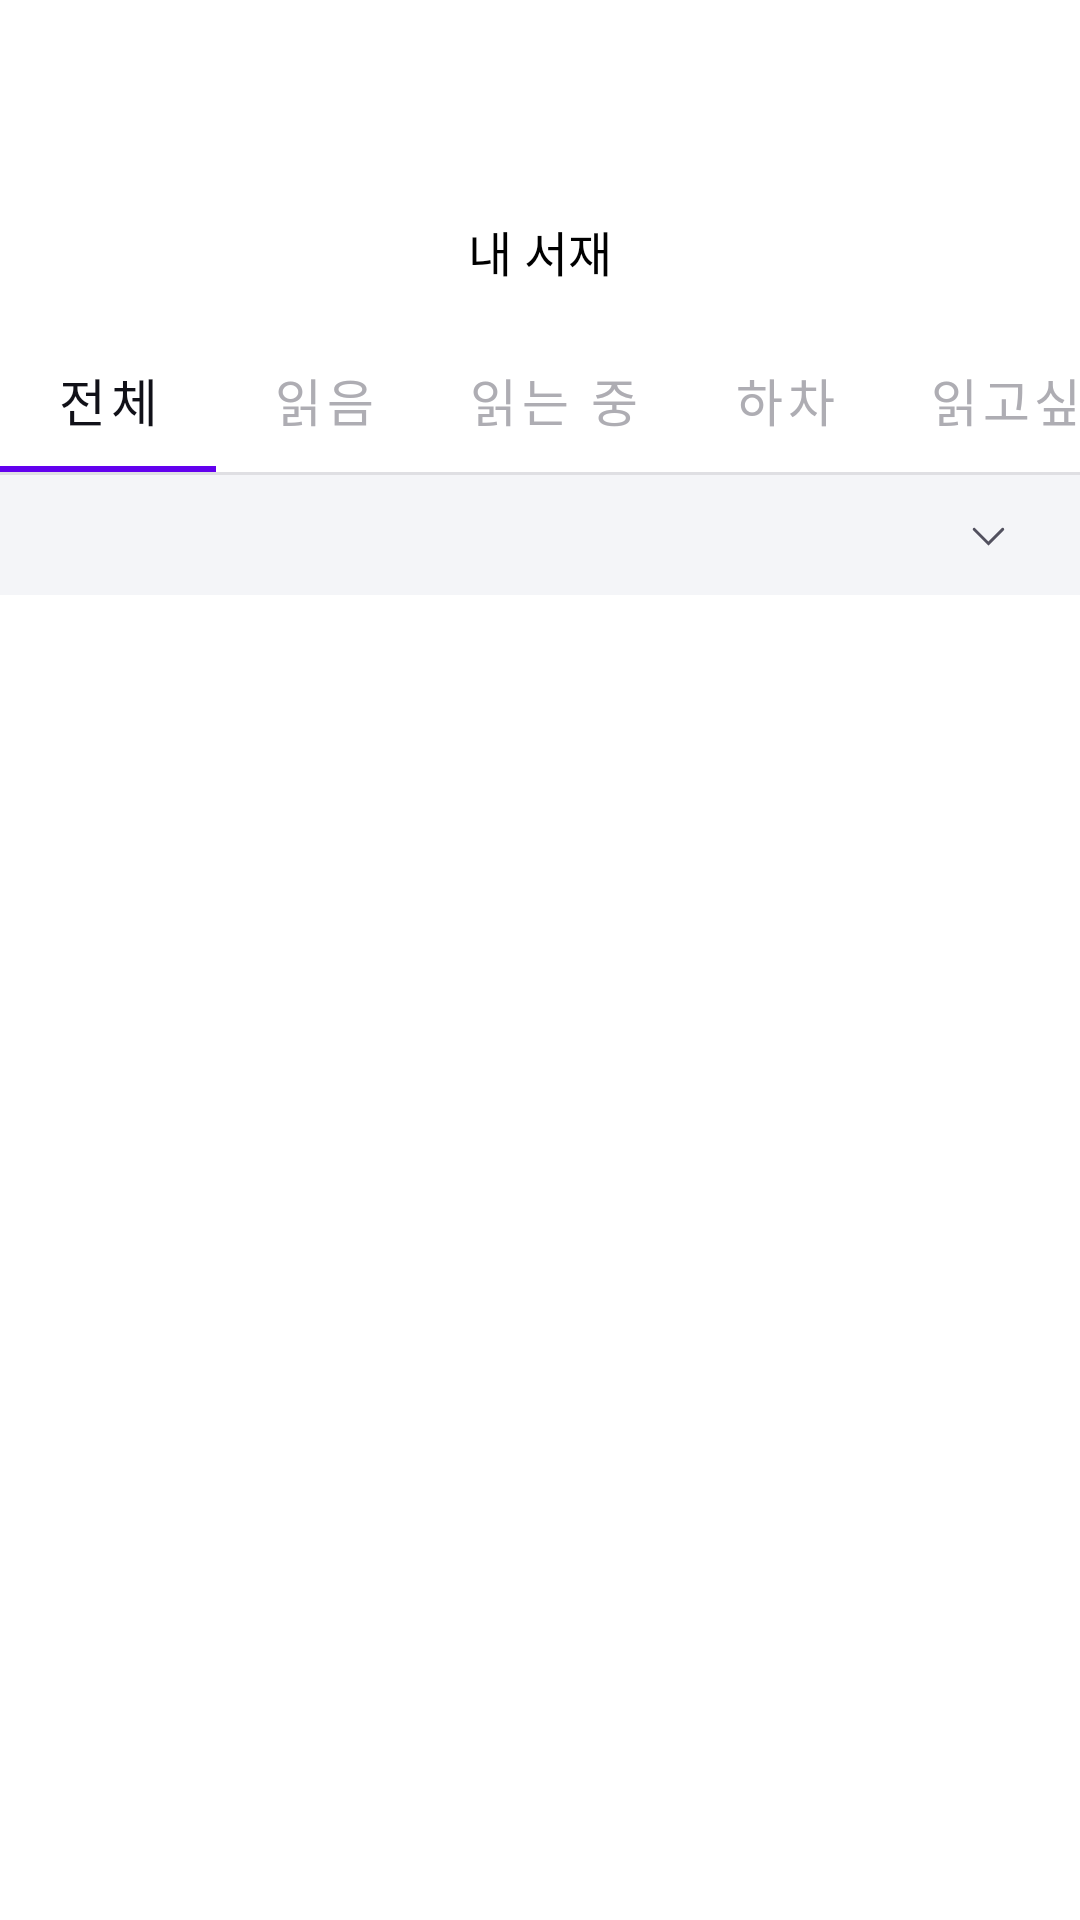

Icons on this 1080w x 1920h Android screen, each with the point to tap as (x=x, y=y):
sort type arrow: (x=988, y=536)
